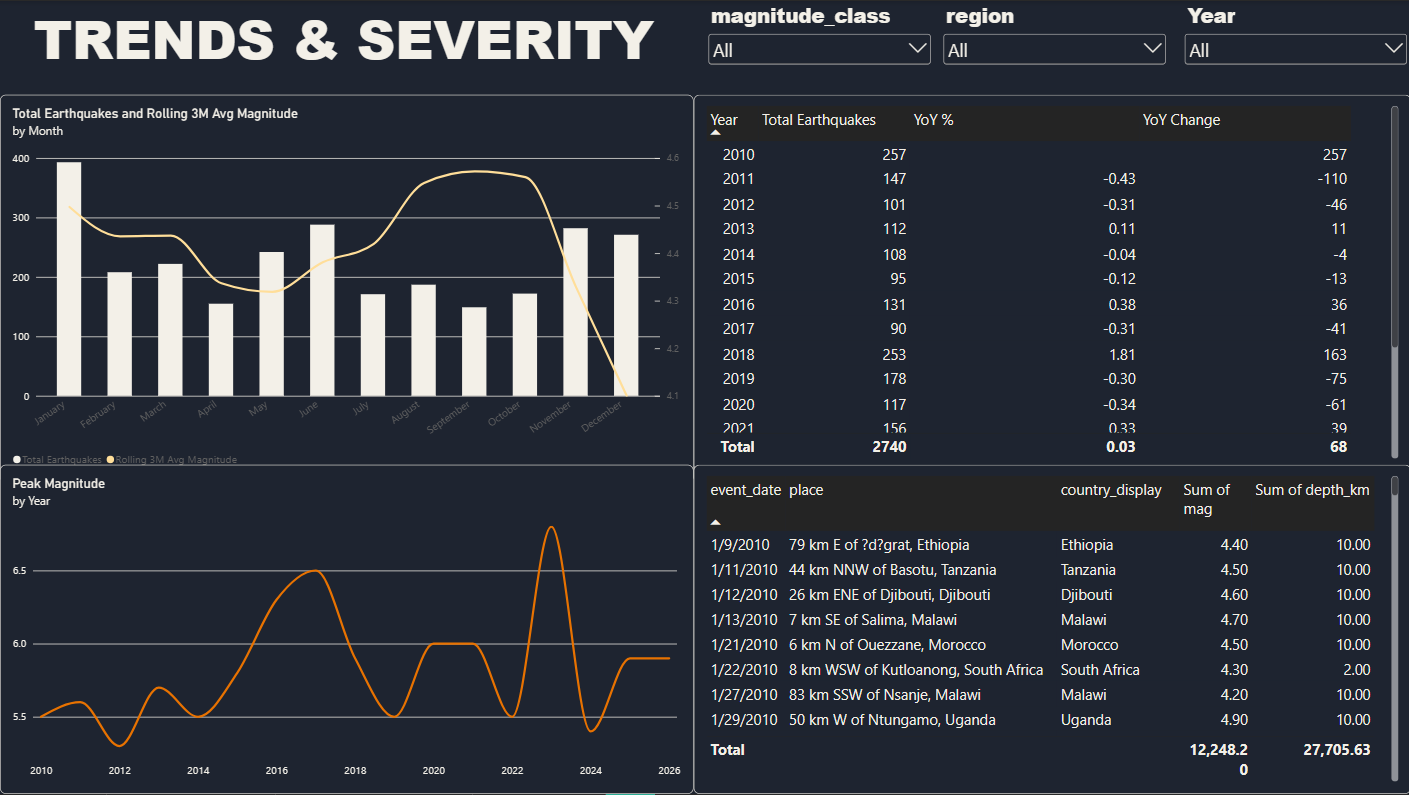

This screenshot's page, from the dashboard's own definition file:
{"tool":"powerbi","page":{"name":"Trends & Severity","canvas":[1920,1080],"ordinal":1},"visuals":[{"type":"slicer","fields":{"Values":["Date.Year"]},"box":[1608,0,312,120],"z":0},{"type":"slicer","fields":{"Values":["Earthquakes.region"]},"box":[1280,0,312,120],"z":1},{"type":"slicer","fields":{"Values":["Earthquakes.magnitude_class"]},"box":[960,0,312,120],"z":2},{"type":"textbox","box":[0,0,960,128],"z":3},{"type":"lineClusteredColumnComboChart","fields":{"Category":["Date.Date.Variation.Date Hierarchy.Year","Date.Date.Variation.Date Hierarchy.Month"],"Y":["Earthquakes.Total Earthquakes"],"Y2":["Earthquakes.Rolling 3M Avg Magnitude"]},"box":[0,128,944,528],"z":4},{"type":"lineChart","fields":{"Category":["Date.Date.Variation.Date Hierarchy.Year"],"Y":["Earthquakes.Peak Magnitude"]},"box":[0,632,944,448],"z":5},{"type":"tableEx","fields":{"Values":["Date.Date.Variation.Date Hierarchy.Year","Earthquakes.Total Earthquakes","Earthquakes.YoY %","Earthquakes.YoY Change"]},"box":[944,128,976,512],"z":6},{"type":"tableEx","fields":{"Values":["Earthquakes.event_date","Earthquakes.place","Earthquakes.country_display","Sum(Earthquakes.mag)","Sum(Earthquakes.depth_km)"]},"box":[944,632,976,448],"z":7}]}

Visuals, with their boxes in screenshot pixels (x1, y1, x2, y2), scaled from the page's 1920x1080 canvas onto the 1409x795 screenshot:
slicer - Date.Year: {"x1": 1180, "y1": 0, "x2": 1408, "y2": 88}
slicer - Earthquakes.region: {"x1": 939, "y1": 0, "x2": 1168, "y2": 88}
slicer - Earthquakes.magnitude_class: {"x1": 704, "y1": 0, "x2": 933, "y2": 88}
textbox: {"x1": 0, "y1": 0, "x2": 704, "y2": 94}
lineClusteredColumnComboChart - Date.Date.Variation.Date Hierarchy.Year x Date.Date.Variation.Date Hierarchy.Month: {"x1": 0, "y1": 94, "x2": 693, "y2": 483}
lineChart - Date.Date.Variation.Date Hierarchy.Year x Earthquakes.Peak Magnitude: {"x1": 0, "y1": 465, "x2": 693, "y2": 794}
tableEx - Date.Date.Variation.Date Hierarchy.Year x Earthquakes.Total Earthquakes: {"x1": 693, "y1": 94, "x2": 1408, "y2": 471}
tableEx - Earthquakes.event_date x Earthquakes.place: {"x1": 693, "y1": 465, "x2": 1408, "y2": 794}
